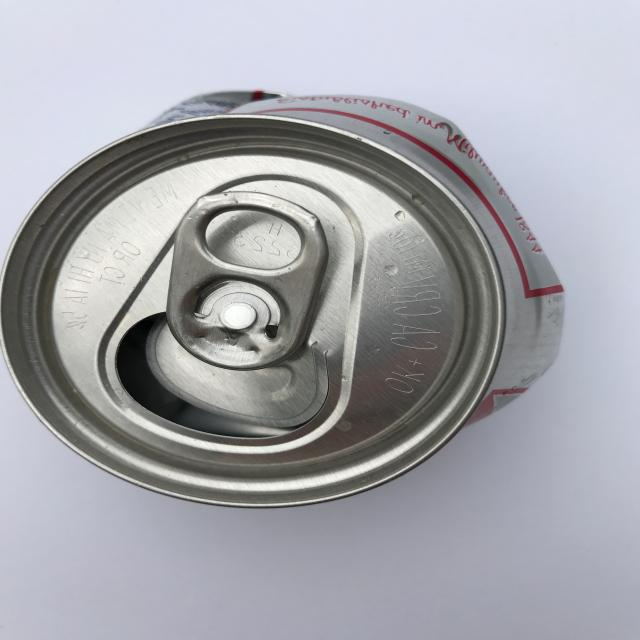metal: (0, 90, 566, 508)
